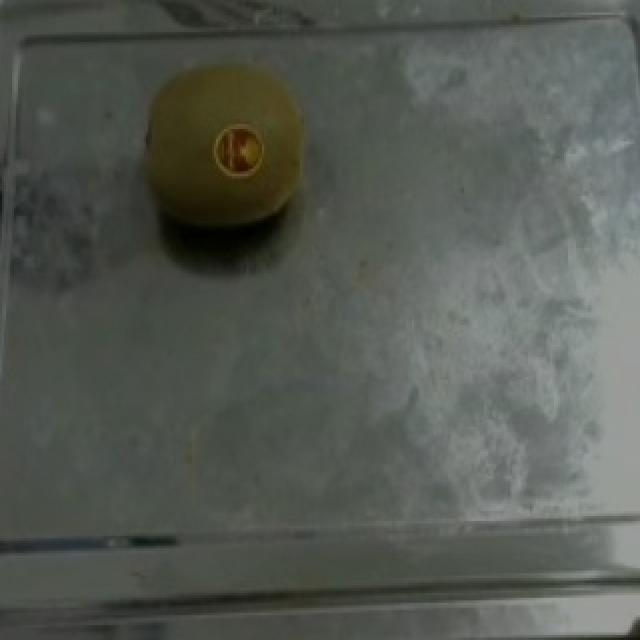Fruit: (122, 44, 328, 240)
